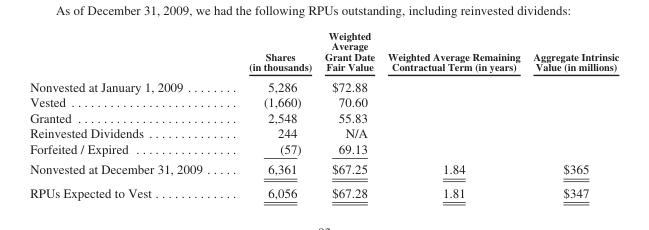table: (29, 29, 618, 199)
table column: (29, 29, 225, 199), (380, 29, 526, 199), (225, 29, 317, 199), (526, 29, 618, 199), (317, 29, 380, 199)
table column header: (29, 29, 618, 75)
table row: (29, 29, 618, 75), (29, 158, 618, 180), (29, 180, 618, 199), (29, 75, 618, 93), (29, 140, 618, 158), (29, 93, 618, 109), (29, 124, 618, 140), (29, 109, 618, 124)
